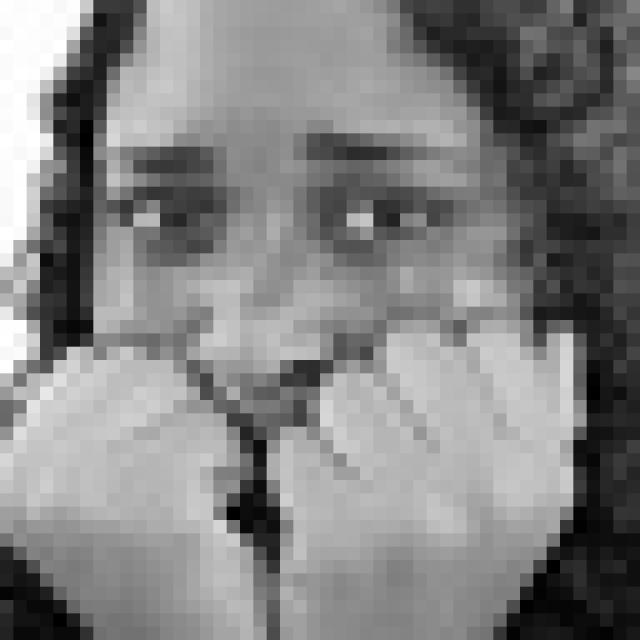fear: (106, 134, 492, 531)
